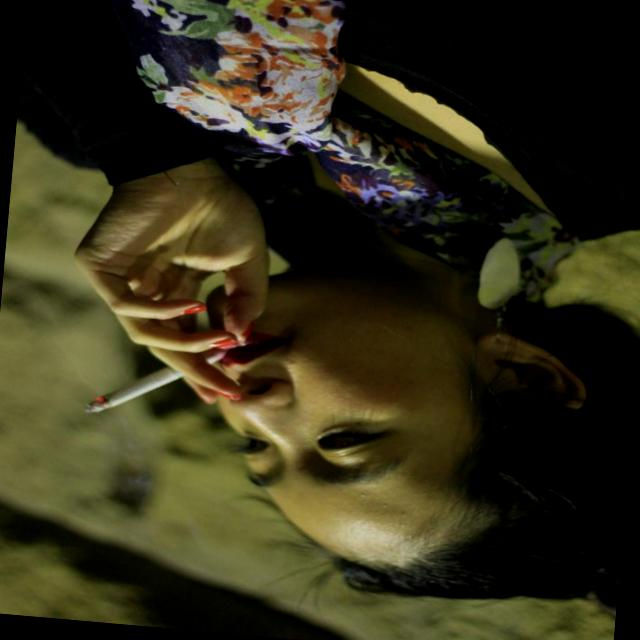cigarette: (80, 334, 230, 431)
